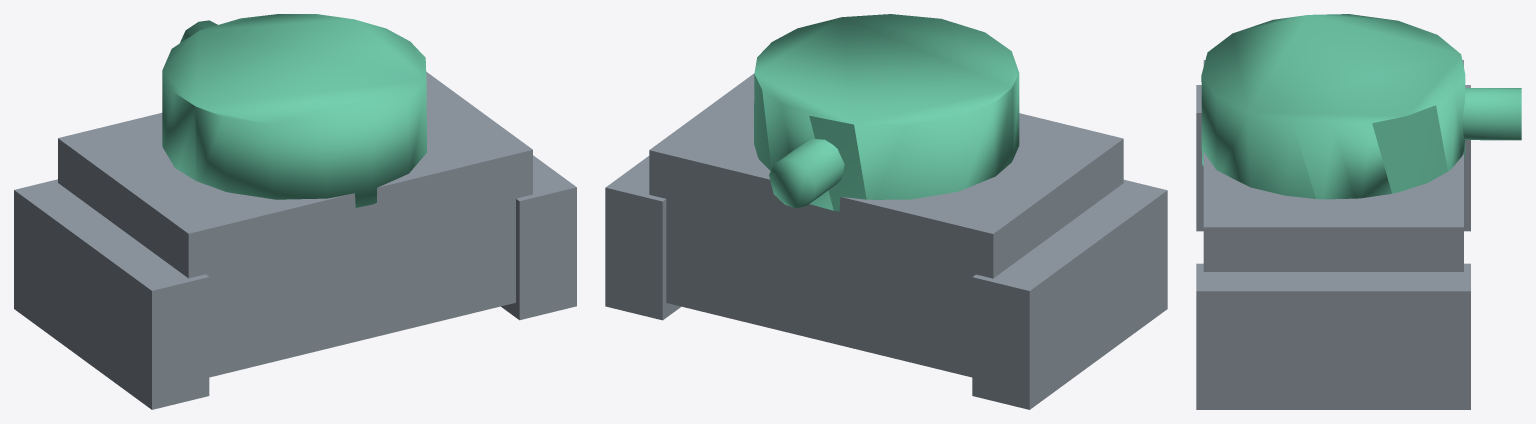
The model's file is CO_KamakiriWalker_LOD1.glb.
The picture shows the model from 3 angles, left to right: view 1: azimuth 30°, elevation 25°; view 2: azimuth 150°, elevation 25°; view 3: azimuth 270°, elevation 25°; orthographic projection.
Parts seen in each view (by area): view 1: Chassis; view 2: Chassis; view 3: Chassis.
Part boxes in pixels (box(x1,y1,x2,y2)): Chassis: box(14, 14, 576, 409); Chassis: box(605, 14, 1167, 409); Chassis: box(1196, 14, 1521, 409).
Size of the model in its own units: 388 by 208 by 259.
